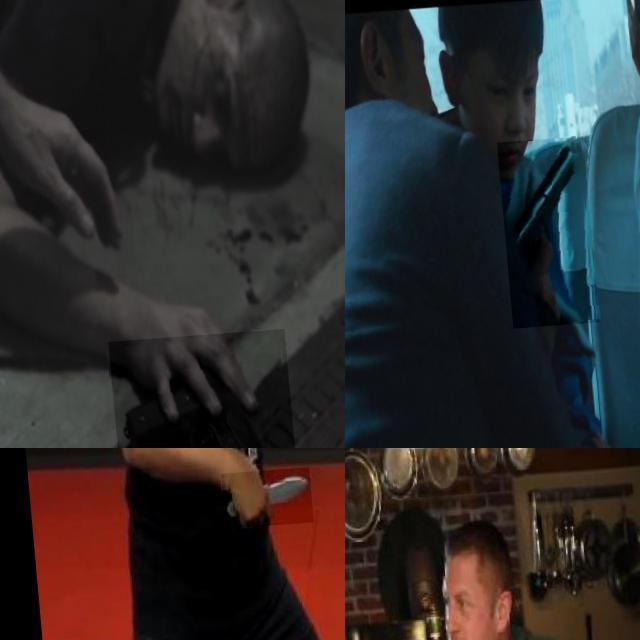-: (213, 472, 305, 532)
gun-knife-thesis - v11 Yolov5 augmented: (99, 336, 288, 448), (493, 142, 592, 332)
